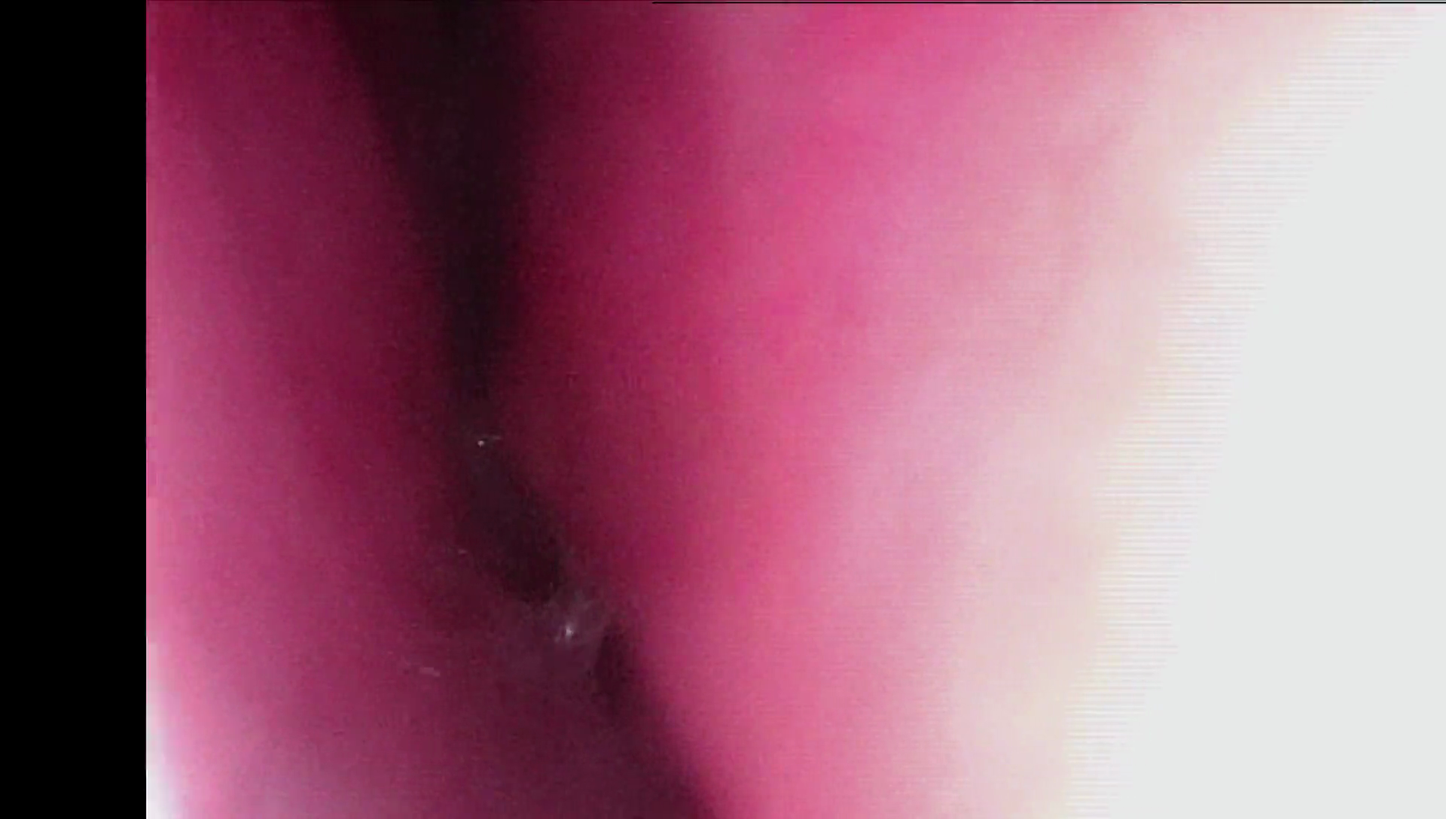close_wall: (713, 13, 1446, 819), (146, 513, 413, 819)
next: (435, 168, 508, 409)
